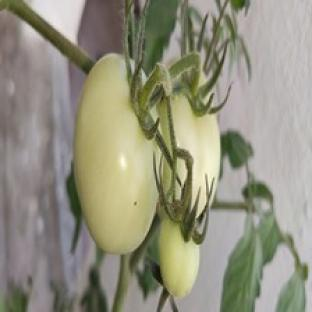Tomato: (74, 55, 157, 253), (172, 94, 220, 214), (159, 218, 199, 296)
